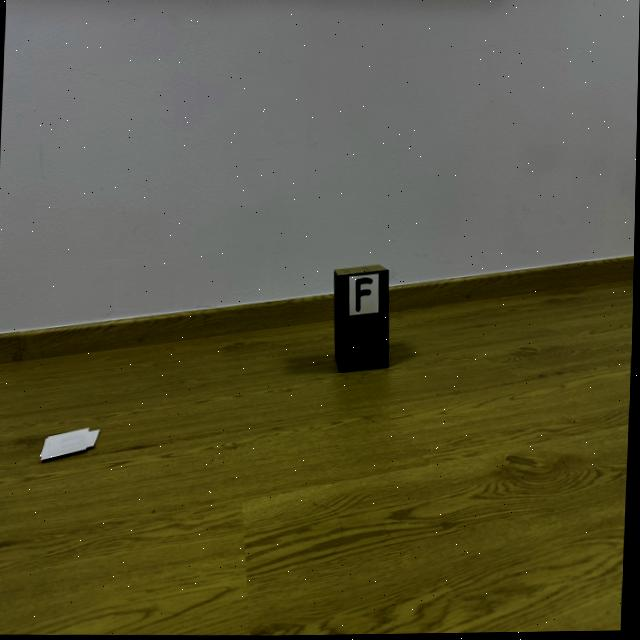F: (356, 278, 373, 313)
